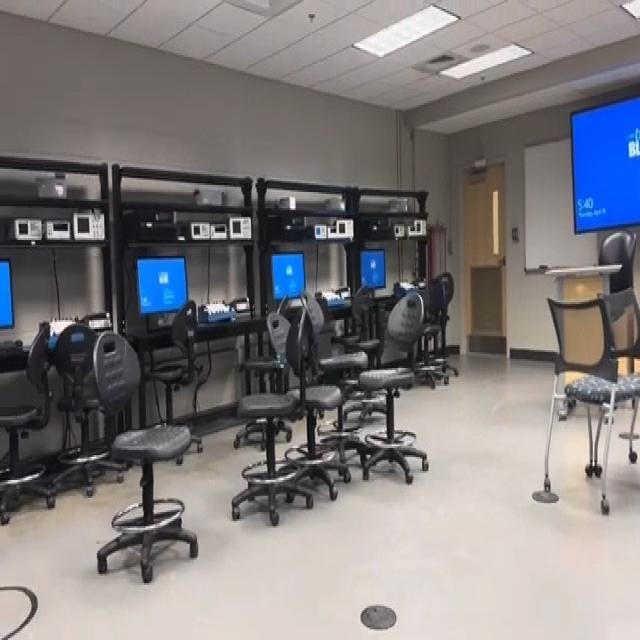drone: (264, 327, 294, 383)
